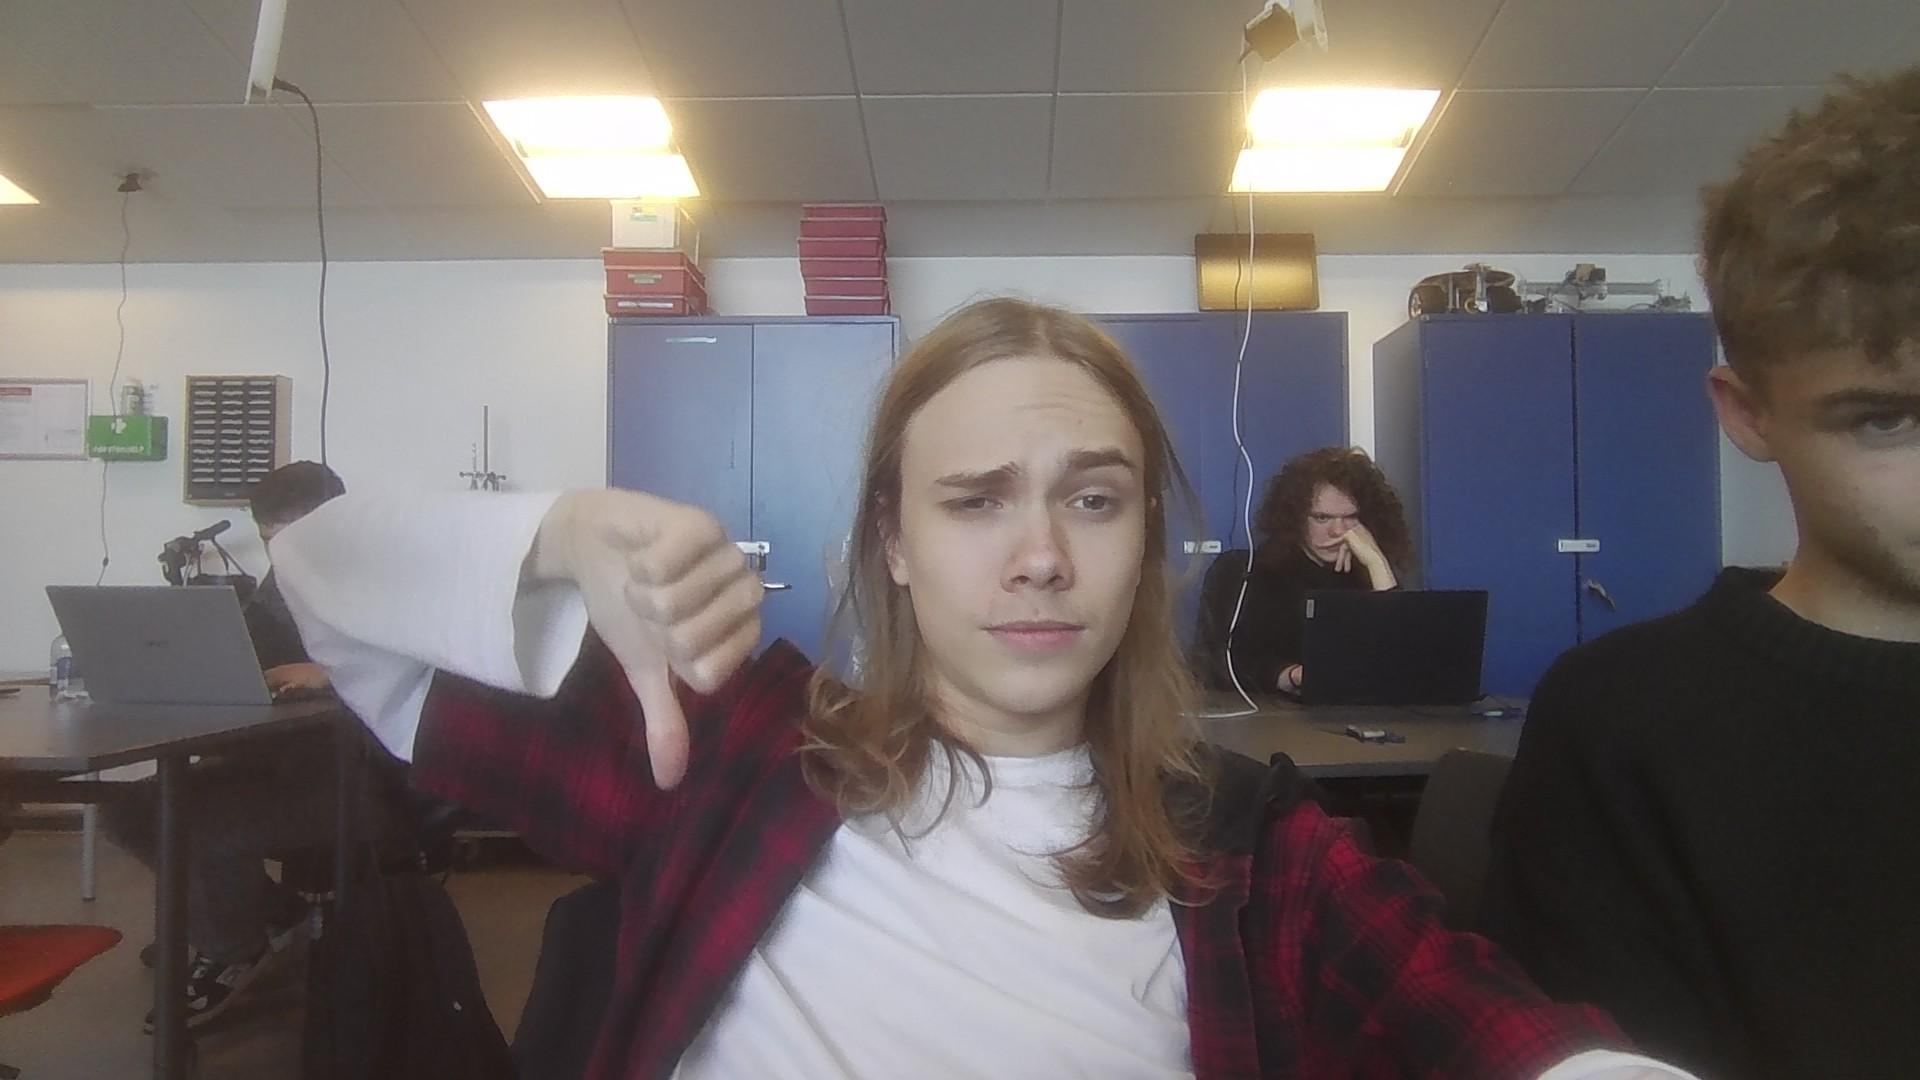thumbs down: (580, 481, 769, 798)
